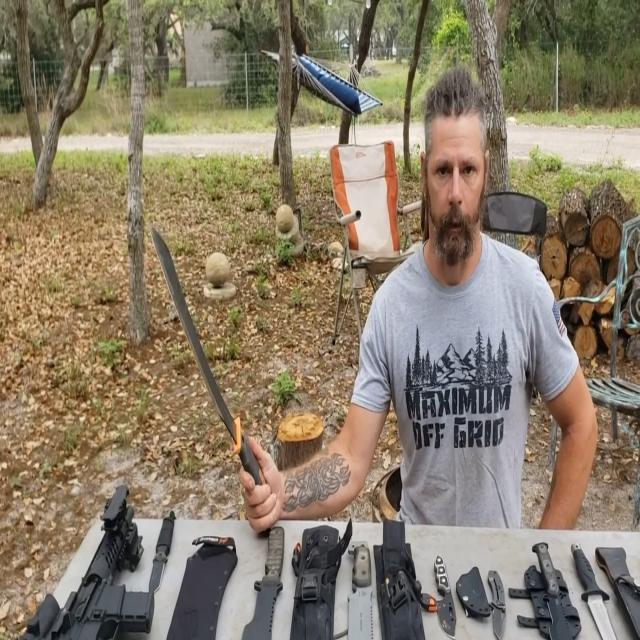knife: (146, 193, 282, 487), (237, 509, 304, 639), (568, 536, 624, 639), (341, 529, 389, 639), (527, 527, 574, 639), (140, 499, 192, 600), (432, 548, 462, 639), (485, 562, 517, 639)
long weapon: (12, 467, 182, 639)
